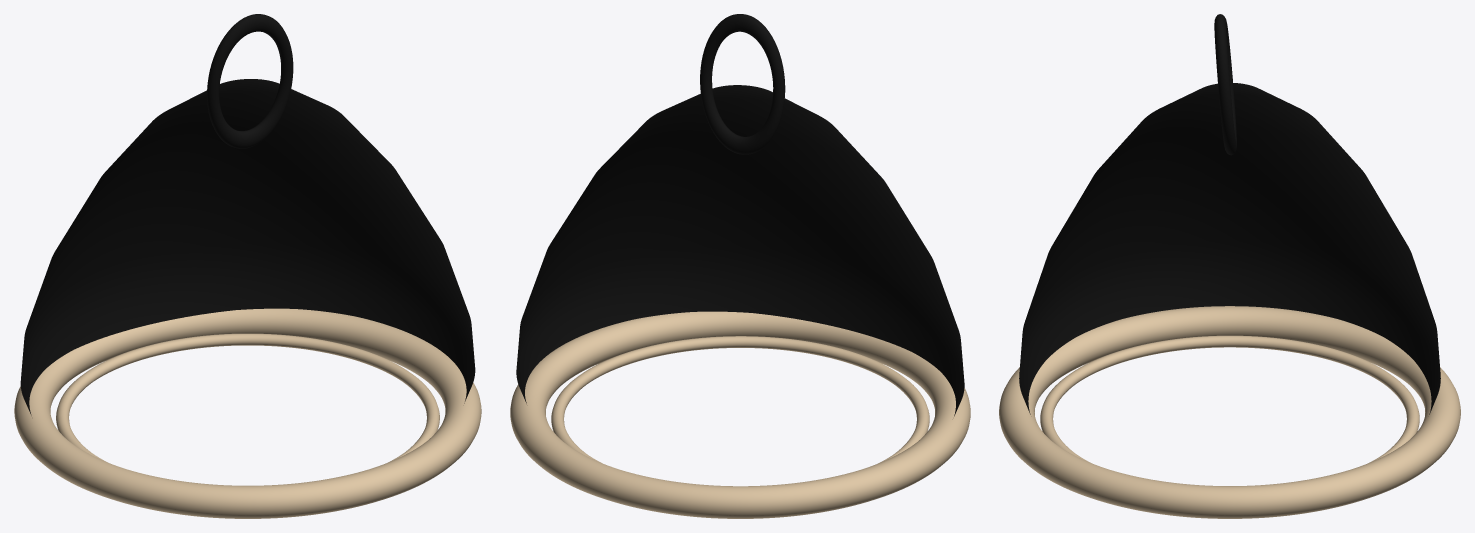
File: drift-sauna-hat.glb
3 renders of one model, left to right at view 1: azimuth 30°, elevation 25°; view 2: azimuth 150°, elevation 25°; view 3: azimuth 270°, elevation 25°, orthographic.
Parts seen in each view (by area): view 1: hat_shell, rolled_light_wool_brim, inner_trim_shadow, top_hanging_loop; view 2: hat_shell, rolled_light_wool_brim, inner_trim_shadow, top_hanging_loop; view 3: hat_shell, rolled_light_wool_brim, inner_trim_shadow, top_hanging_loop.
Part boxes in pixels (x1,y1,x2,y2): hat_shell: [20, 79, 475, 415]; rolled_light_wool_brim: [14, 308, 481, 518]; inner_trim_shadow: [56, 333, 439, 462]; top_hanging_loop: [207, 14, 293, 148]; hat_shell: [516, 85, 964, 416]; rolled_light_wool_brim: [510, 311, 970, 518]; inner_trim_shadow: [551, 336, 929, 463]; top_hanging_loop: [700, 14, 785, 154]; hat_shell: [1019, 83, 1440, 414]; rolled_light_wool_brim: [999, 306, 1460, 518]; inner_trim_shadow: [1040, 335, 1419, 462]; top_hanging_loop: [1214, 14, 1236, 155].
Size of the model in its own units: 1.29 by 1.26 by 1.29.
